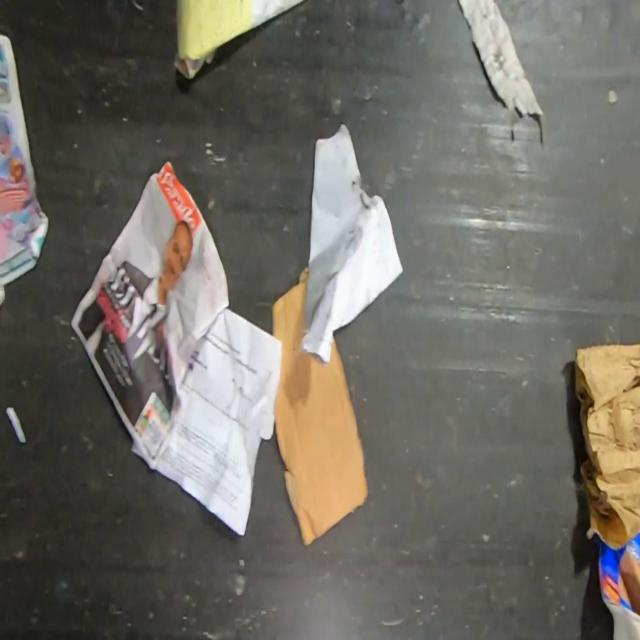cardboard: (271, 264, 368, 546), (574, 342, 639, 551), (594, 534, 640, 639)
